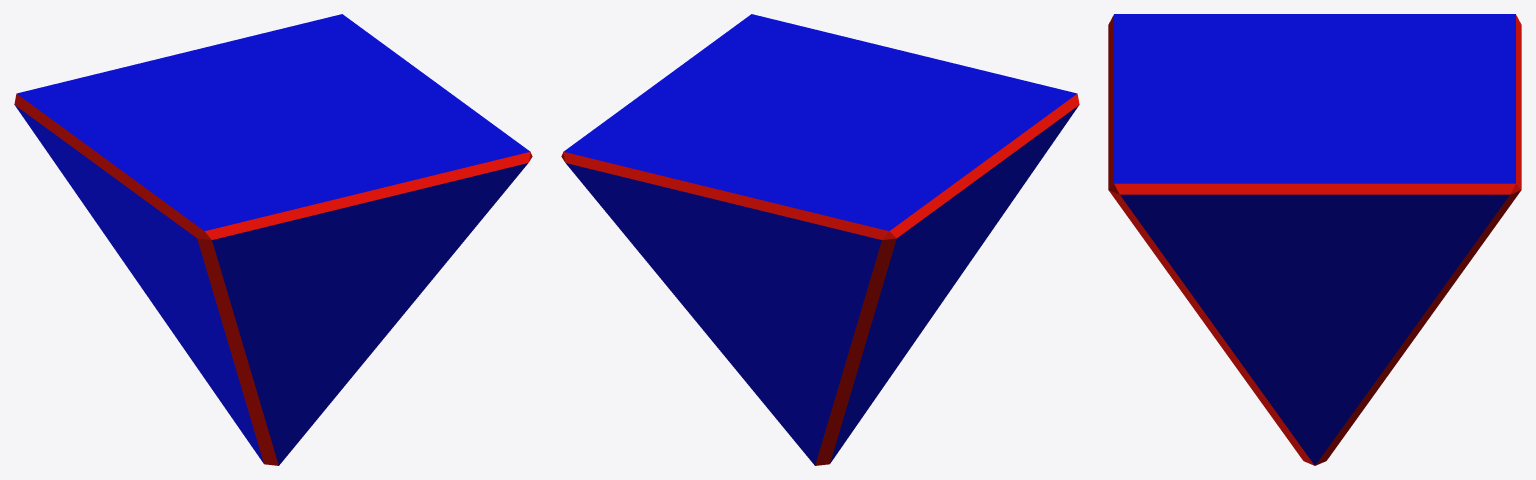
File: Triangle.fbx
3 views of the same model, side by side, from view 1: azimuth 30°, elevation 25°; view 2: azimuth 150°, elevation 25°; view 3: azimuth 270°, elevation 25° (orthographic). The views are drawn at different scales.
Visible parts, largest first — view 1: Cube; view 2: Cube; view 3: Cube.
Part boxes in pixels (x1,y1,x2,y2): Cube: [14, 14, 532, 465]; Cube: [561, 14, 1079, 465]; Cube: [1108, 14, 1521, 465].
Bounding box in the file's own units: 196 × 189 × 196.
